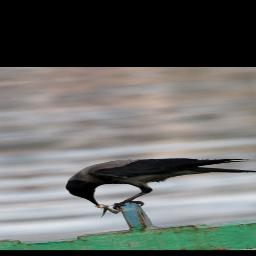Crow: (56, 150, 256, 213)
